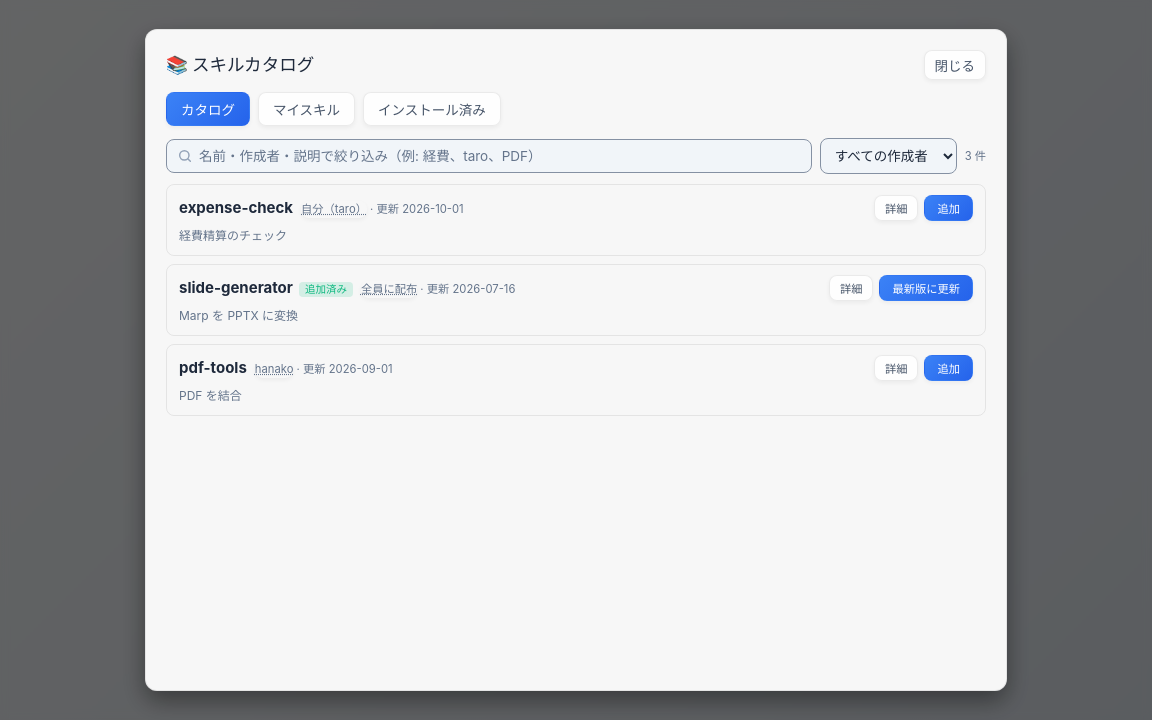
Test: tabs: マイスキル = yours only, インストール済み = added + built-in › インストール済み: sections, buttons; no own skills, no toolbar
Expected: the text "expense-check" is shown, [179,198,293,217]
Click the button "マイスキル": click(307, 109) [258,92,355,126]
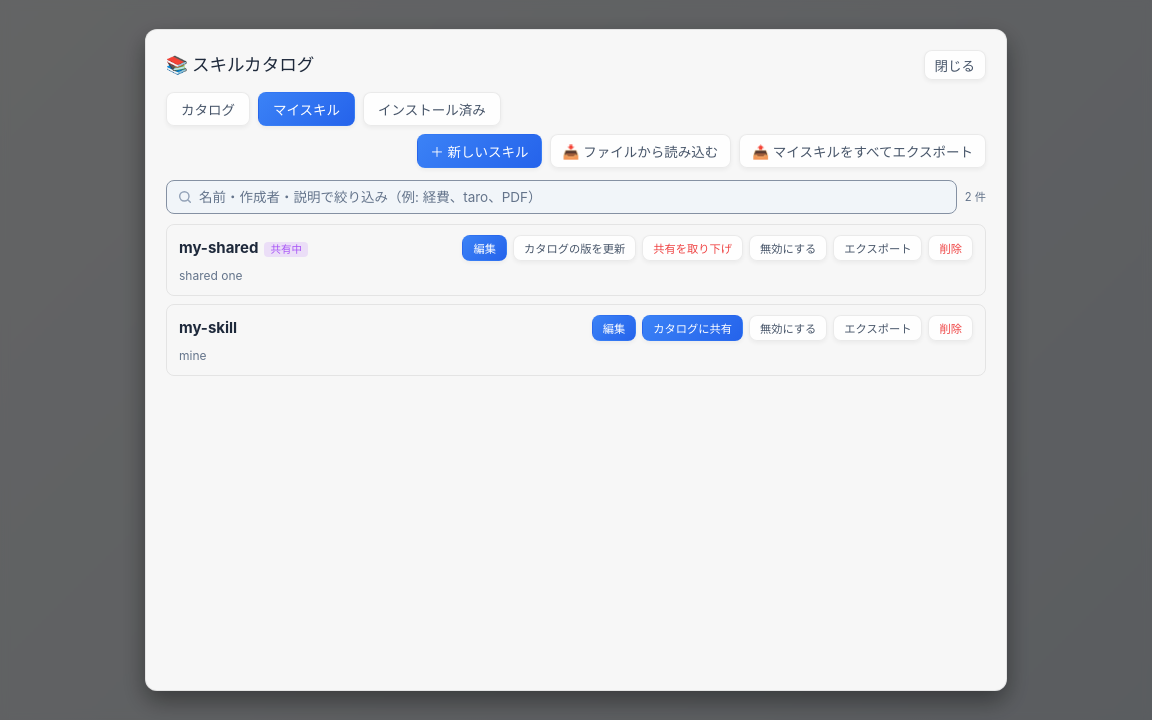
Expected: the text "my-skill" is shown, [179,318,237,337]
Click the button "インストール済み": click(432, 109) [363,92,501,126]
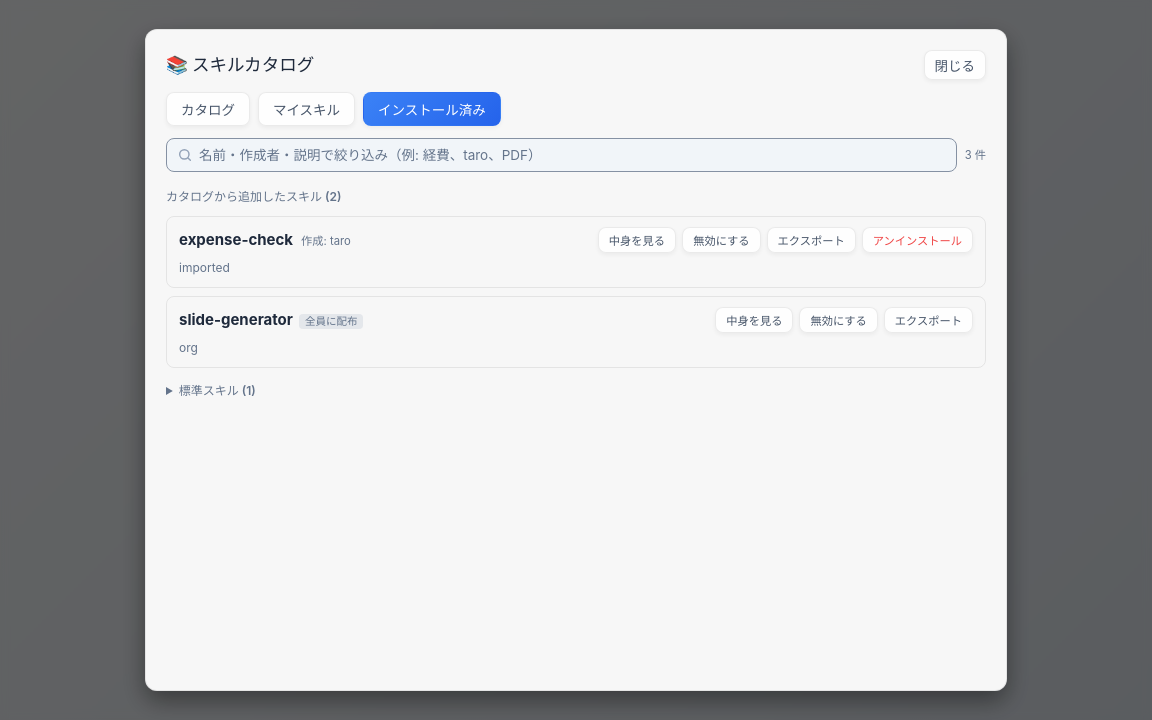
Expected: the text "expense-check" is shown, [179,230,293,249]
Expected: the text "カタログから追加したスキル (2)" is shown, [166,189,342,204]
Expected: the text "my-skill" is gone
